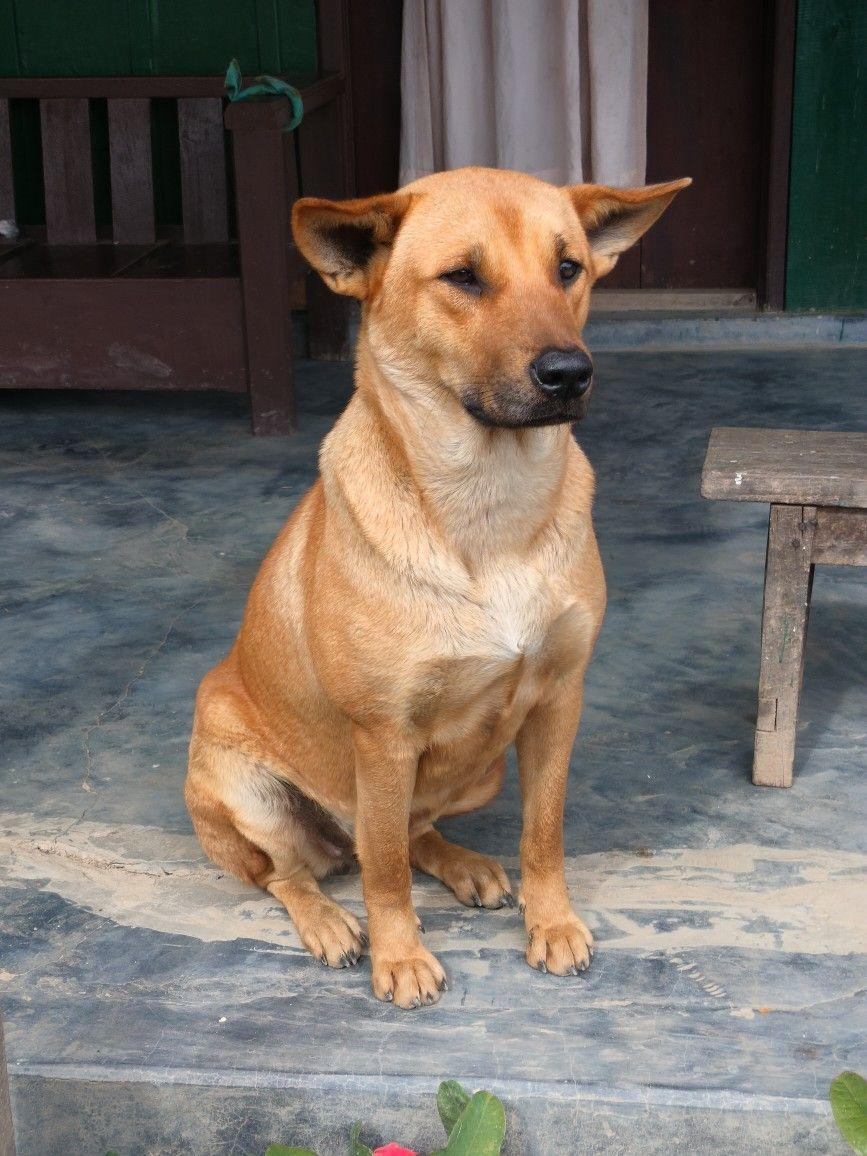dog: (186, 168, 688, 1006)
